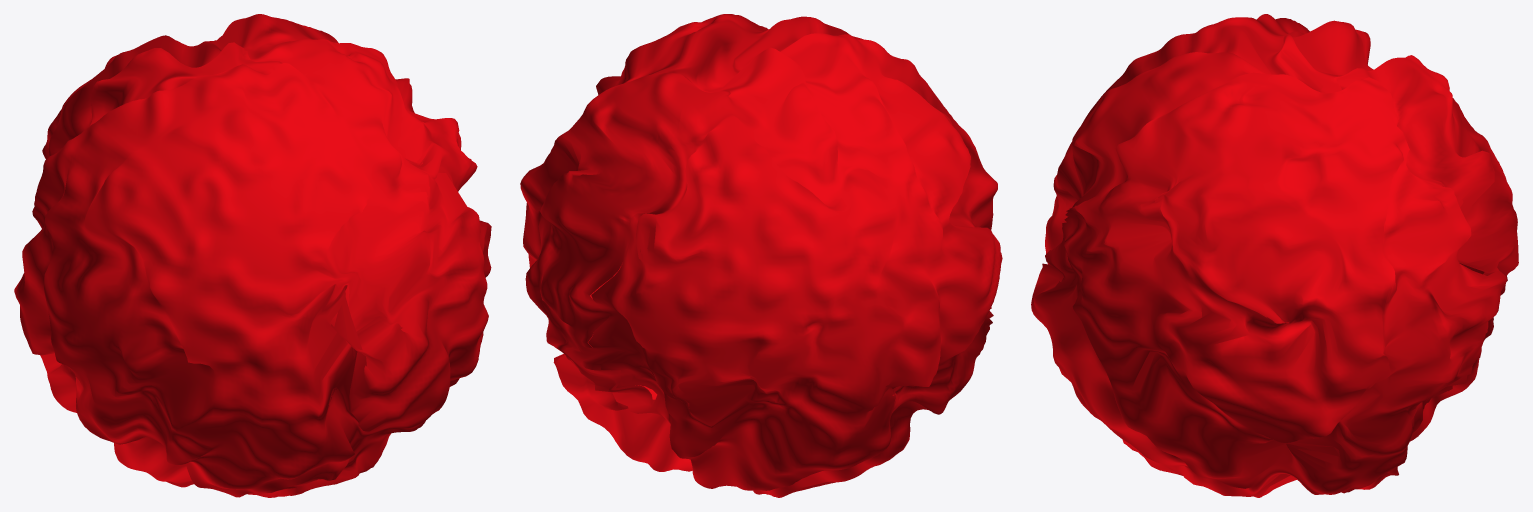
File: capa roja.glb
3 renders of one model, left to right at view 1: azimuth 30°, elevation 25°; view 2: azimuth 150°, elevation 25°; view 3: azimuth 270°, elevation 25°, orthographic.
Visible parts, largest first — view 1: Esfera; view 2: Esfera; view 3: Esfera.
Part boxes in pixels (bbox=[...]): Esfera: bbox=[14, 14, 491, 497]; Esfera: bbox=[520, 14, 1002, 497]; Esfera: bbox=[1031, 14, 1518, 497].
Size of the model in its own units: 4.14 by 4.08 by 4.14.
